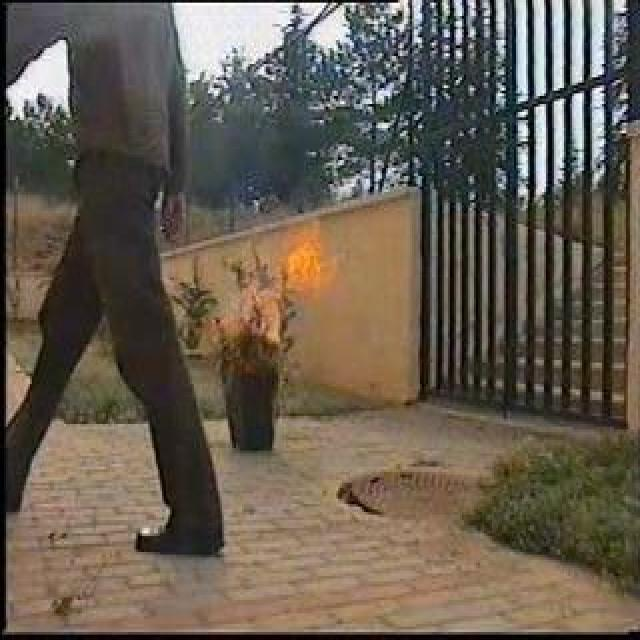Fire: (225, 232, 329, 344)
